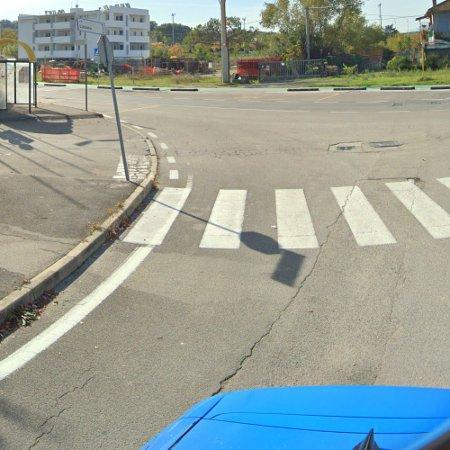crosswalks: (130, 175, 449, 248)
